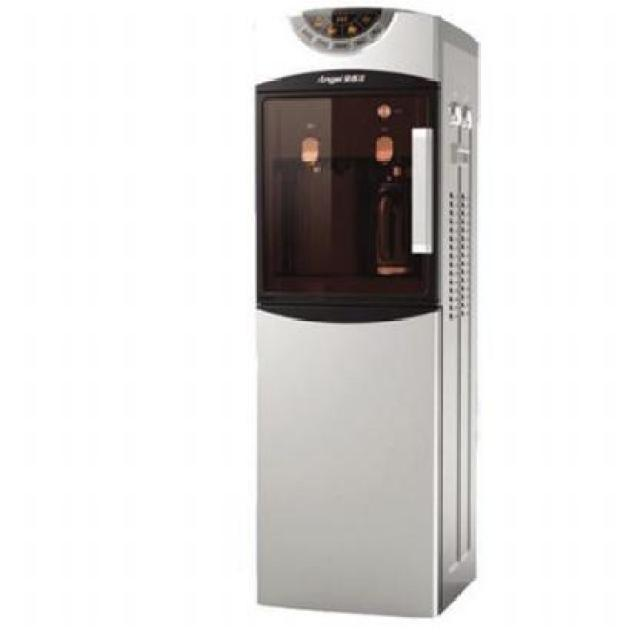cooler: (250, 6, 478, 622)
